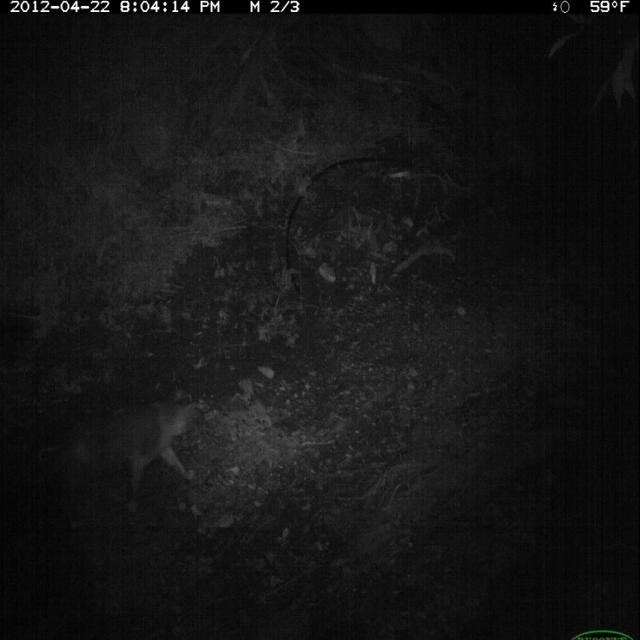cat: (42, 389, 204, 515)
